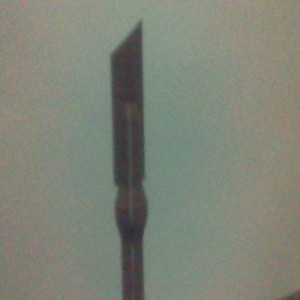cutter: (109, 18, 149, 300)
